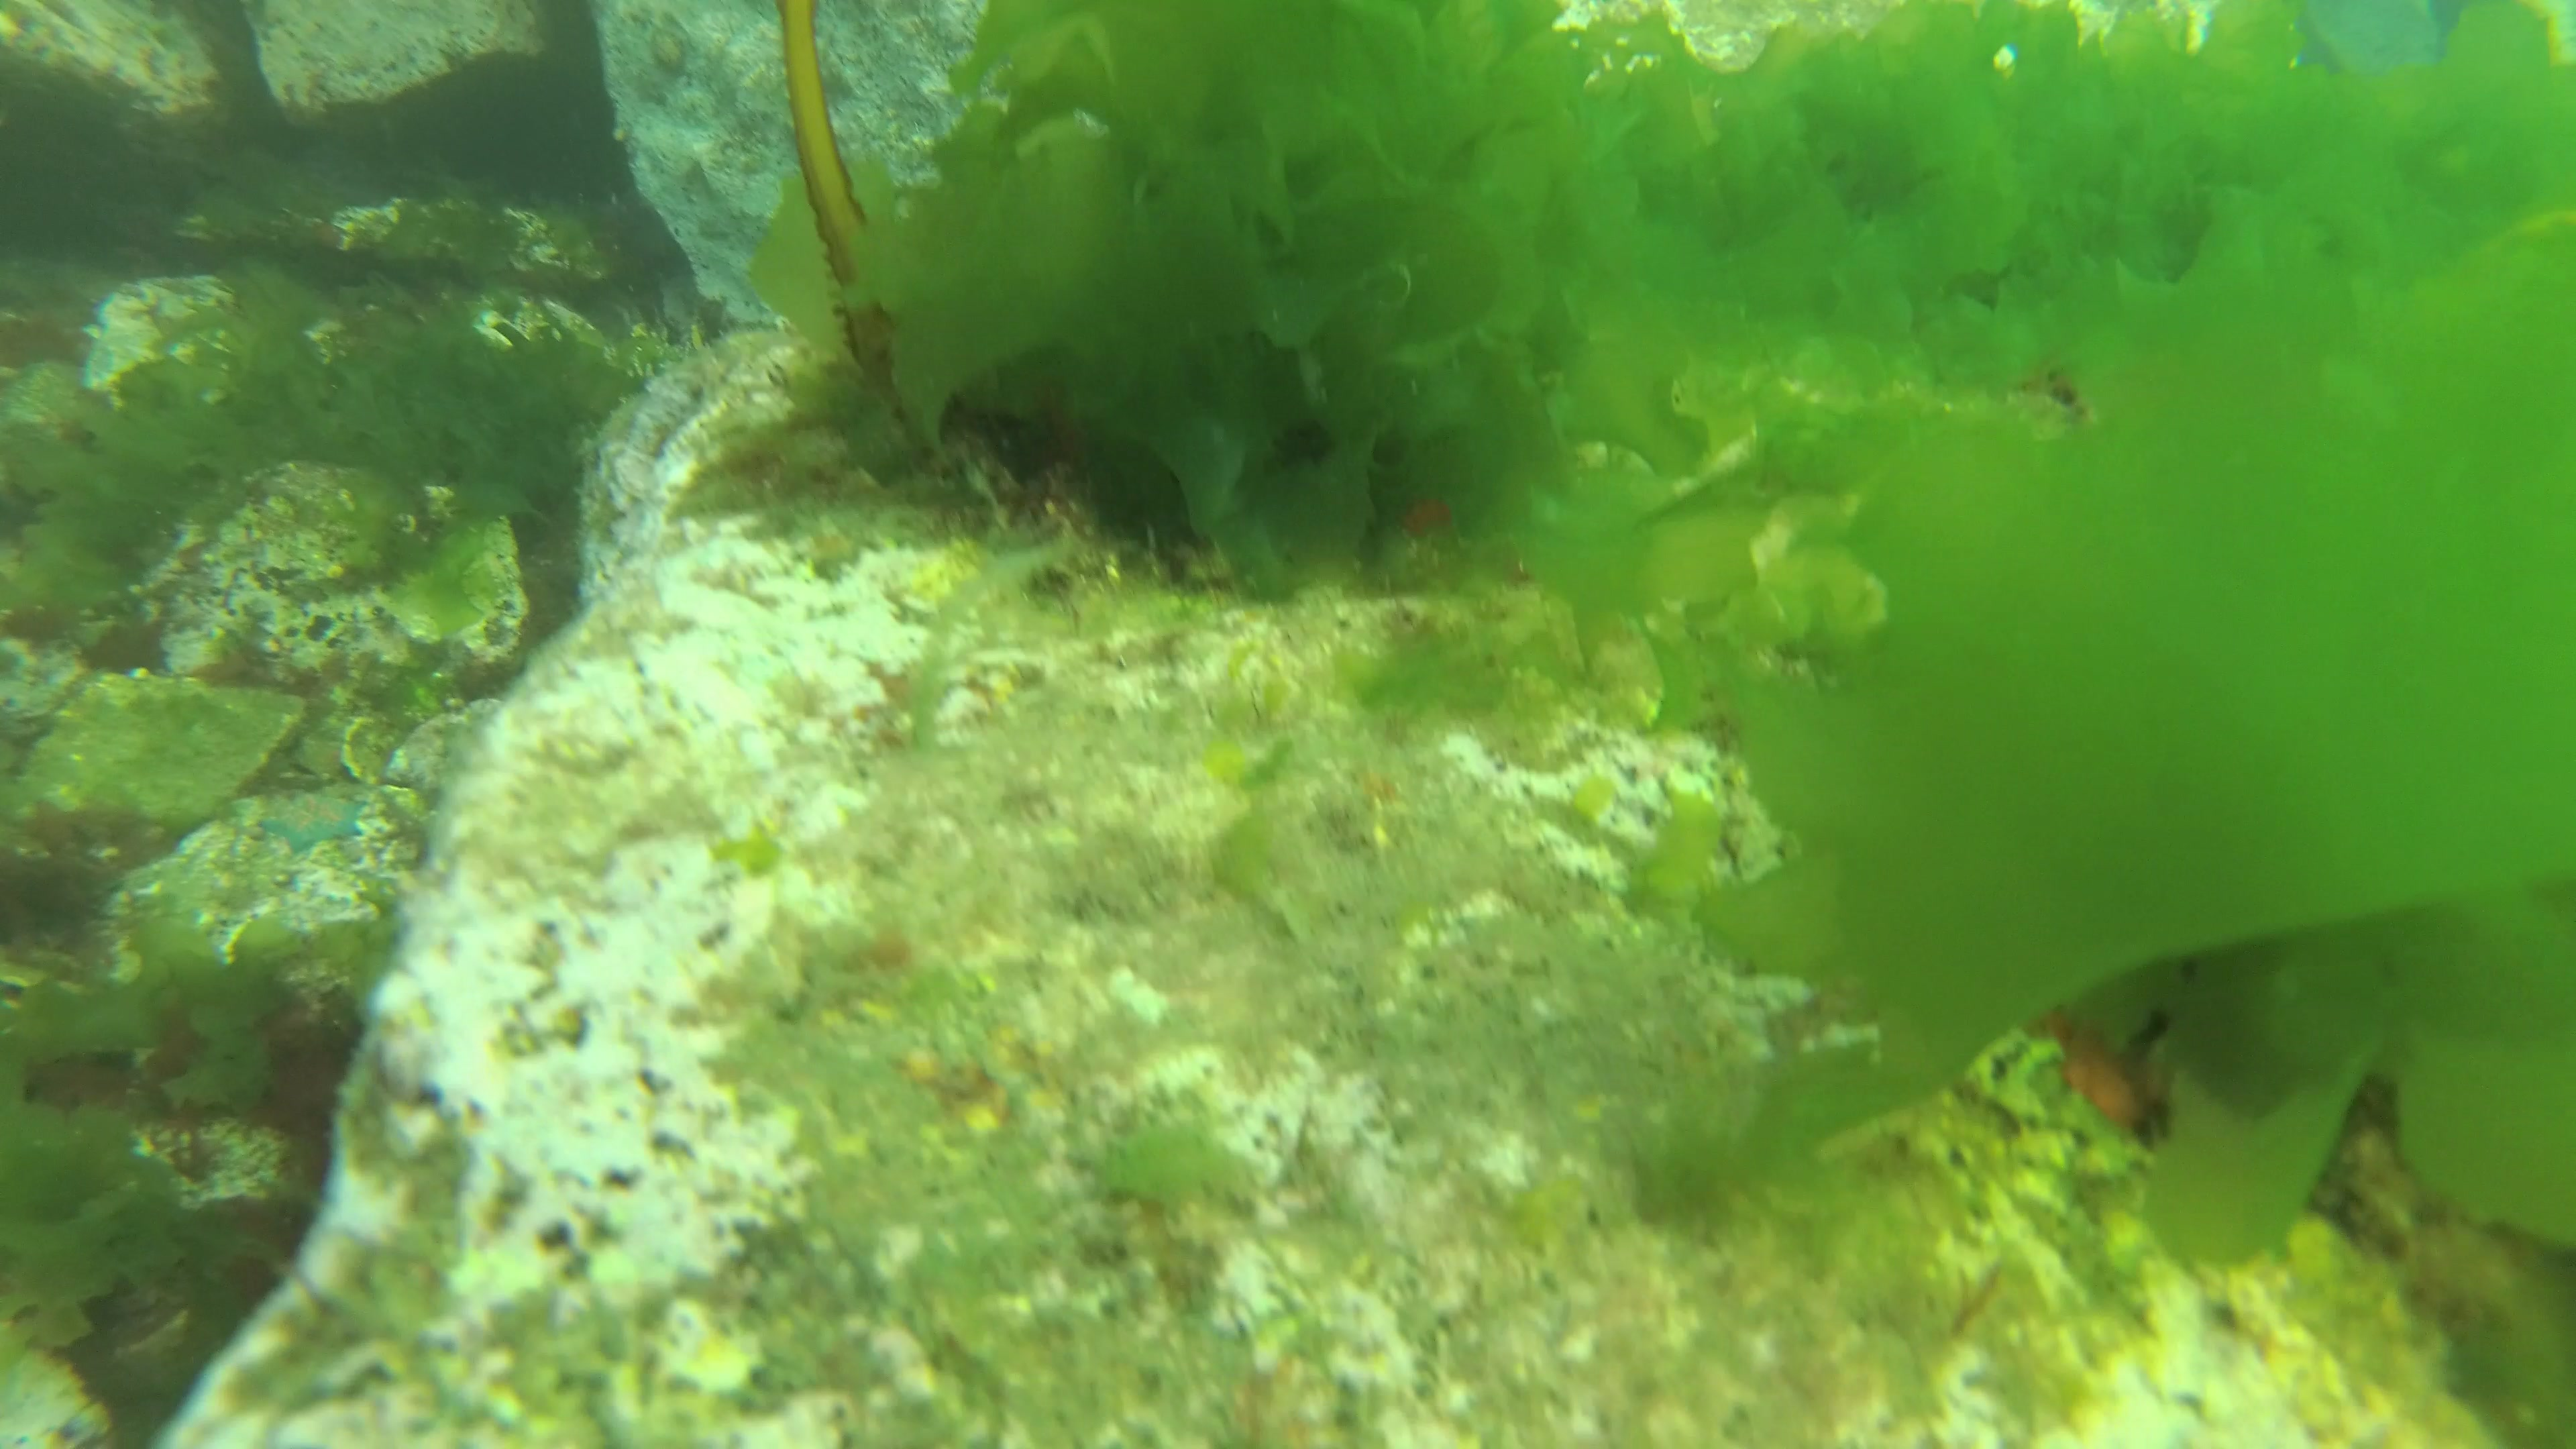starfish: (253, 786, 366, 856)
